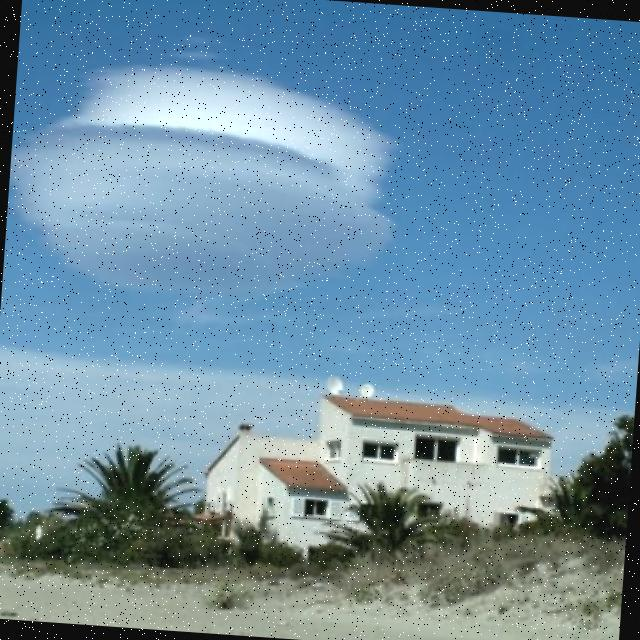Ac: (1, 39, 445, 344)
